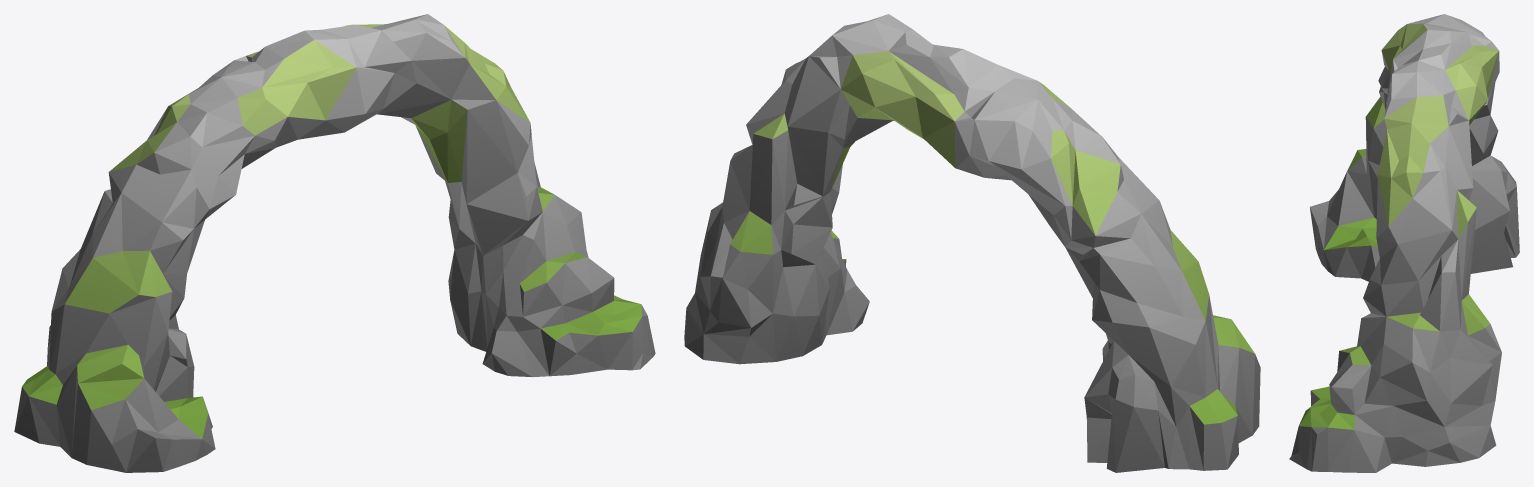
Rendered from mountain-arch-2.glb.
3 renders of one model, left to right at view 1: azimuth 30°, elevation 25°; view 2: azimuth 150°, elevation 25°; view 3: azimuth 270°, elevation 25°, orthographic. The views are drawn at different scales.
Parts seen in each view (by area): view 1: mountain arch 2; view 2: mountain arch 2; view 3: mountain arch 2.
Boxes of the visible parts, left/top/right/bottom form: mountain arch 2: left=14, top=14, right=655, bottom=472; mountain arch 2: left=684, top=14, right=1260, bottom=472; mountain arch 2: left=1289, top=14, right=1519, bottom=472.
Bounding box in the file's own units: 36.91 × 21.15 × 14.02.
1 material, 1 textured.
